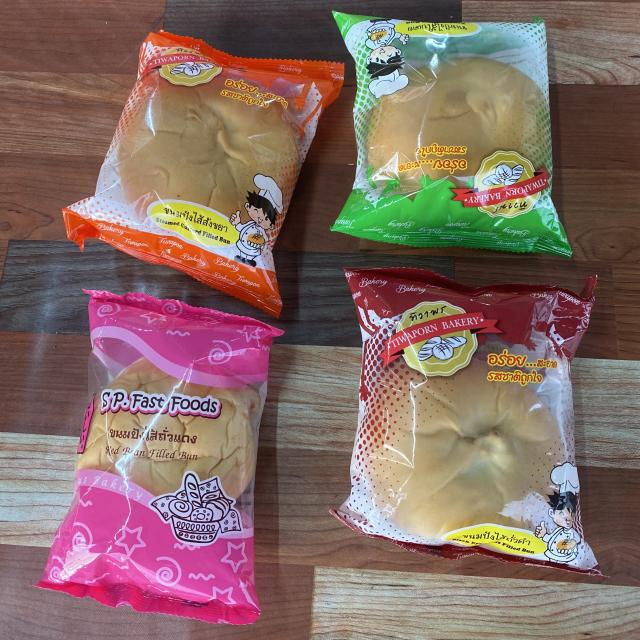plastik: (334, 269, 600, 575), (38, 291, 281, 624), (62, 31, 344, 316), (332, 11, 571, 258)
